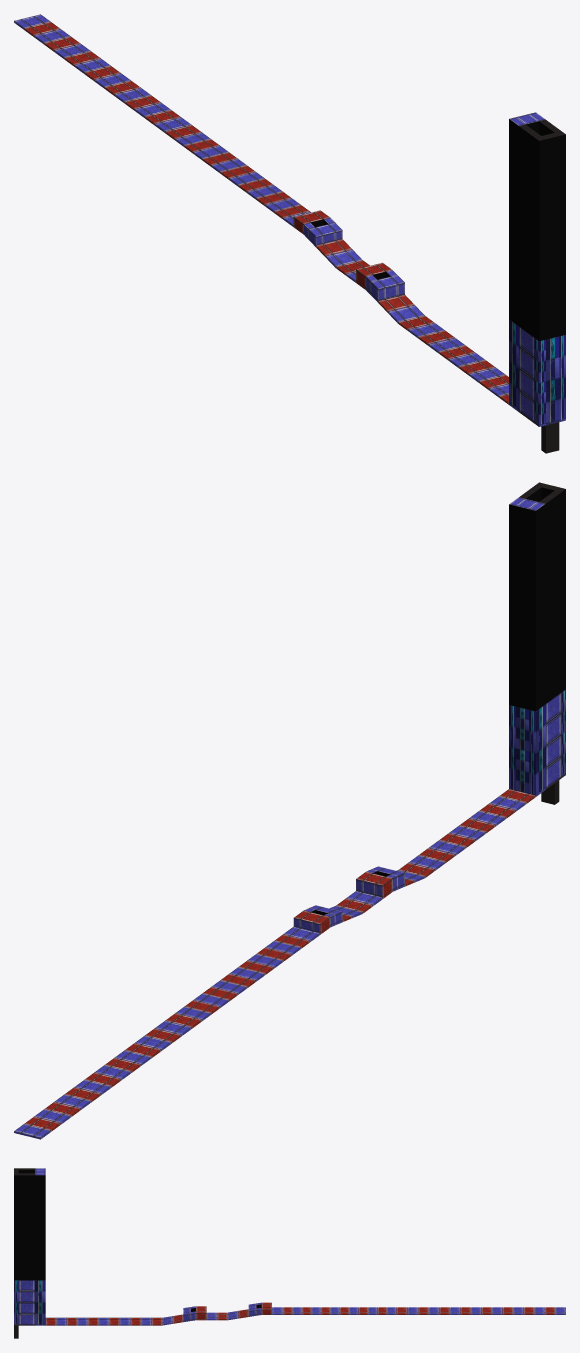
The model's file is TR_Map2_Ceiling.fbx.
The picture shows the model from 3 angles, top to bottom: view 1: azimuth 30°, elevation 25°; view 2: azimuth 150°, elevation 25°; view 3: azimuth 270°, elevation 25°; orthographic projection. The views are drawn at different scales.
Parts seen in each view (by area): view 1: Ceiling02; view 2: Ceiling02; view 3: Ceiling02.
Boxes of the visible parts, left/top/right/bottom form: Ceiling02: left=14, top=14, right=565, bottom=453; Ceiling02: left=14, top=482, right=565, bottom=1139; Ceiling02: left=14, top=1168, right=565, bottom=1338.
Size of the model in its own units: 1600 by 17959 by 54388.
